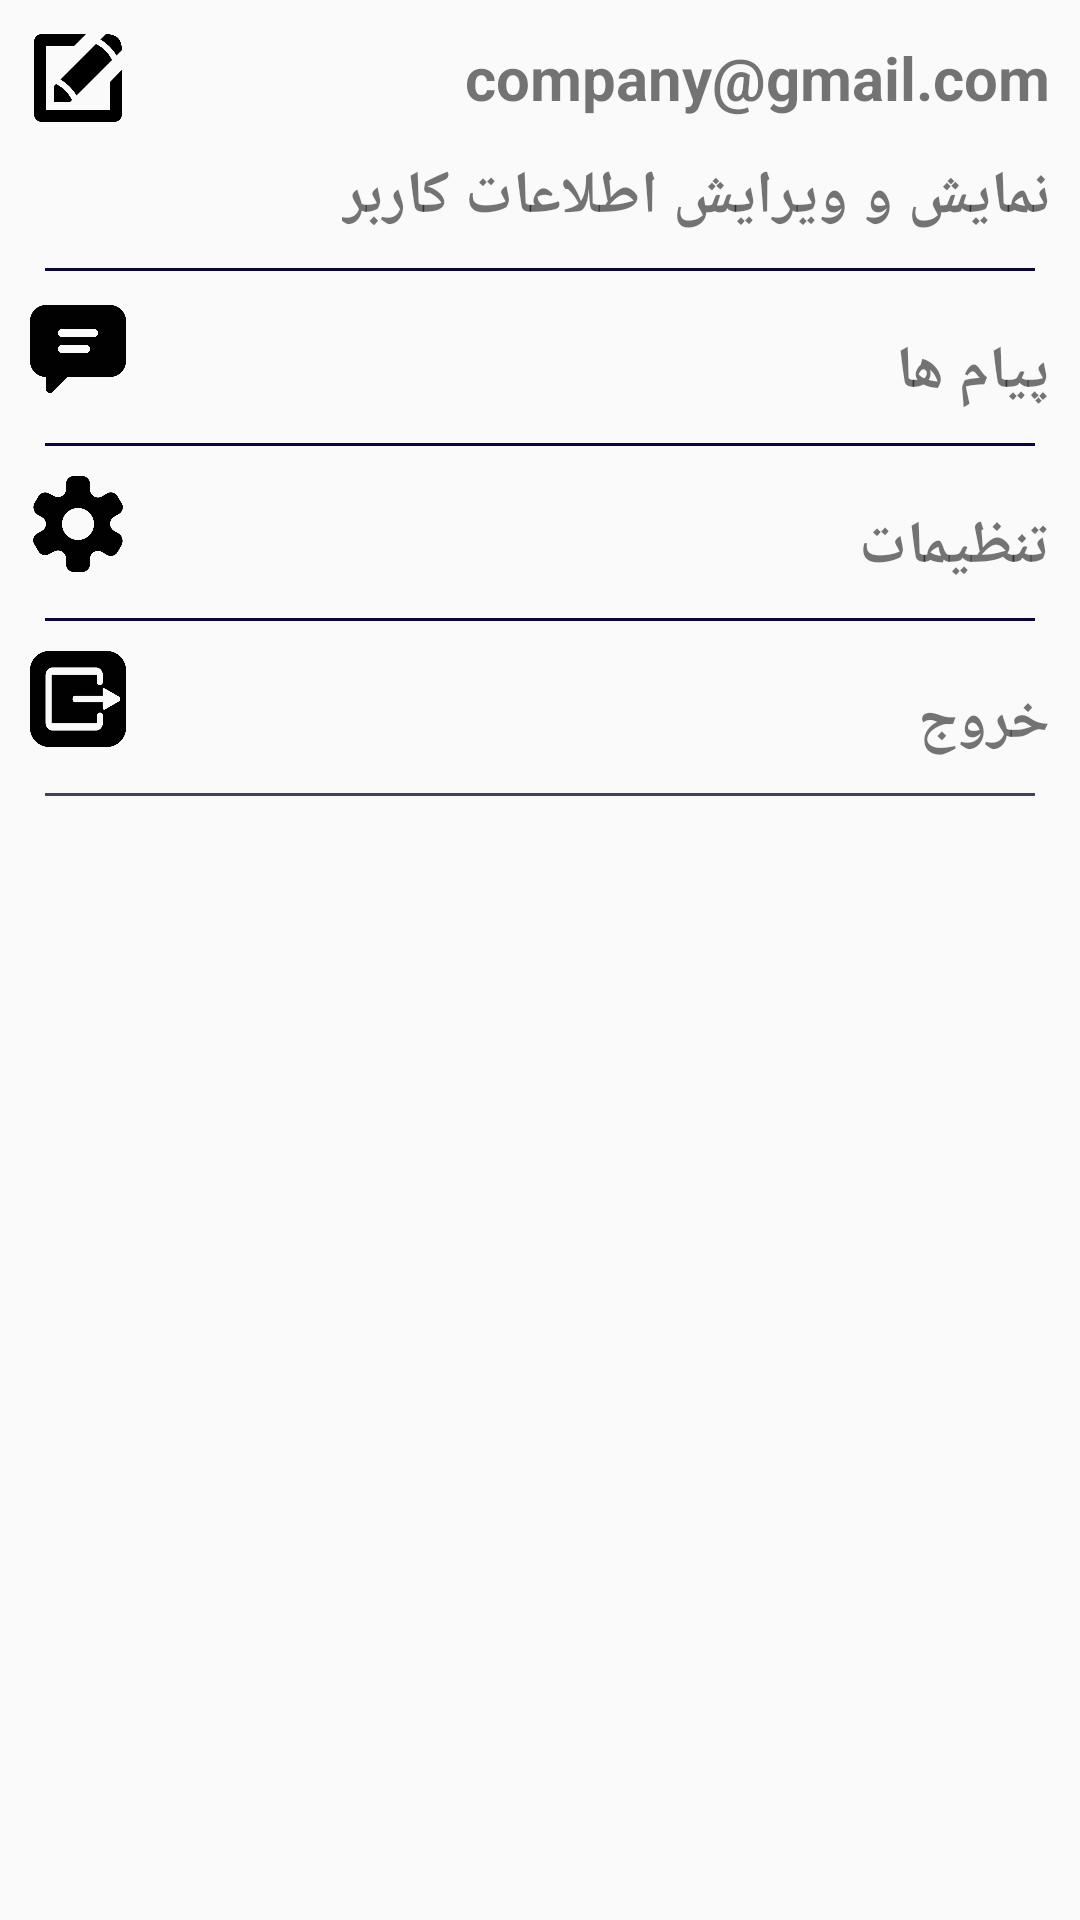

Screen size 1080w x 1920h. Icon name, then its box in pixels as box(x1, y1, x2, y2):
edit: box(34, 34, 122, 122)
exit: box(30, 651, 126, 747)
message: box(30, 305, 126, 393)
settings: box(33, 476, 123, 572)
